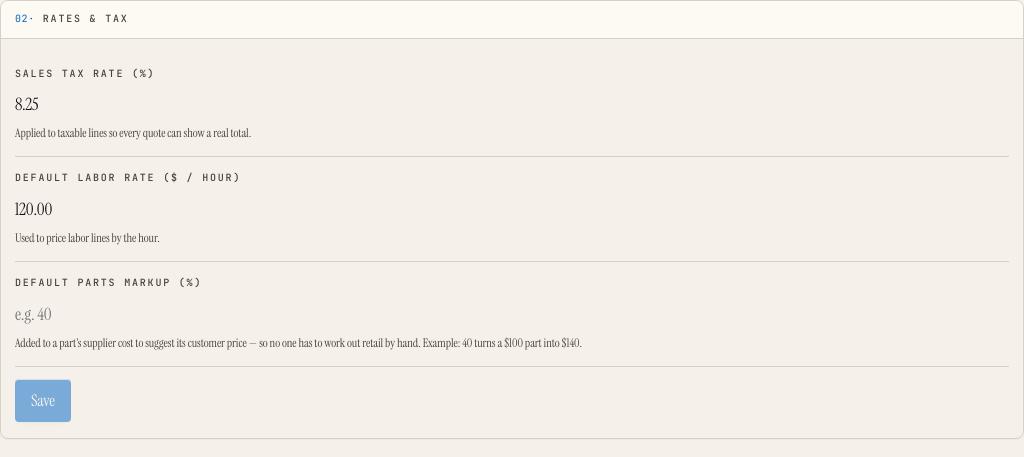
it: RatesSection — parts markup › saves only the markup, leaving untouched rate fields out of the payload
Type "40" into the field labelled "Default parts markup (%)" at coordinates (512, 314), box [15,299,1009,329]
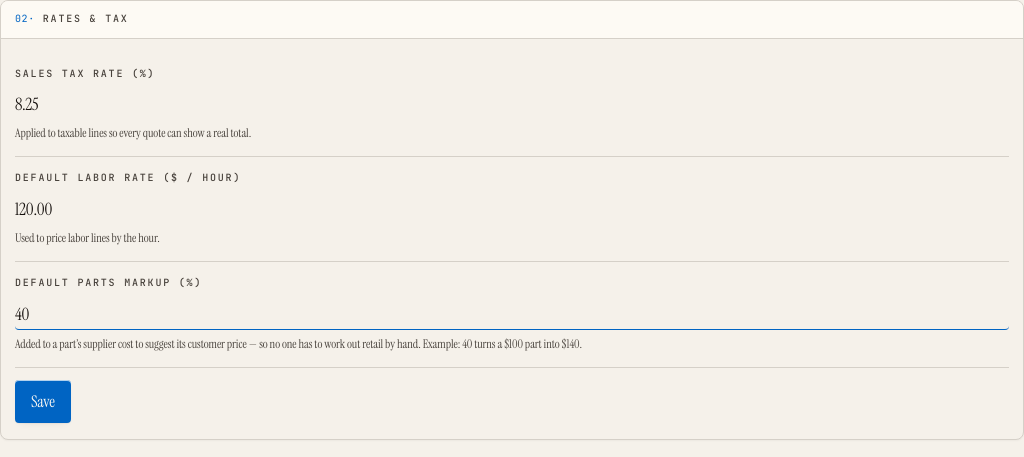
Click the button "Save" at coordinates (43, 402), box [15,380,71,423]
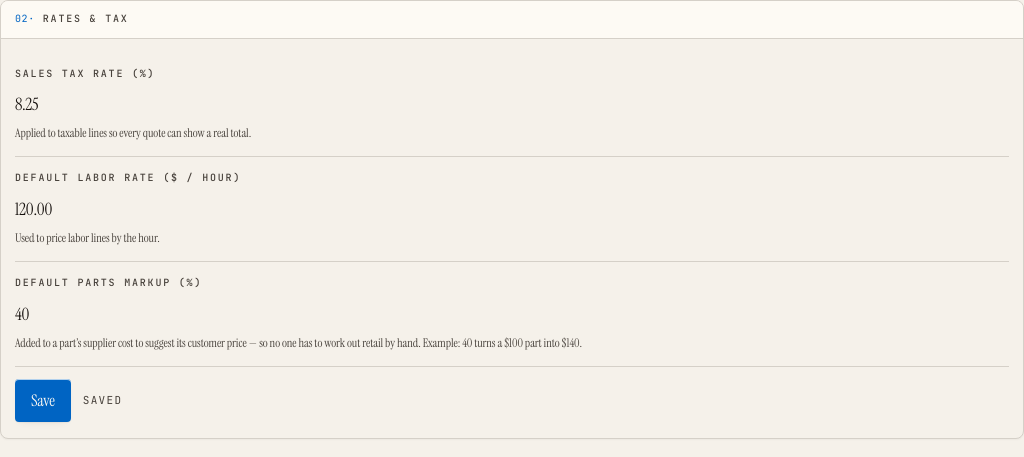
Now the text "Saved" is shown, box [83,393,122,409]
